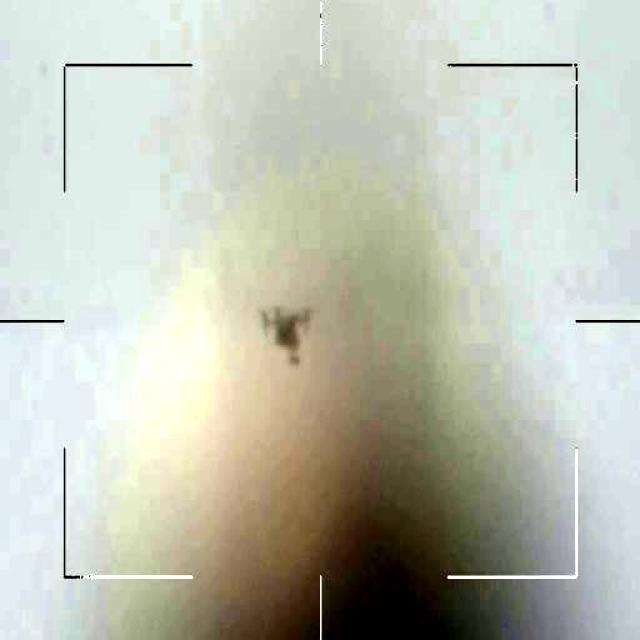bird: (261, 301, 318, 370)
